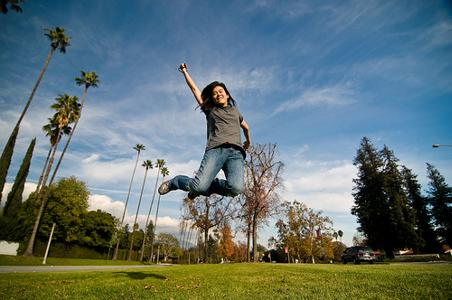person: (160, 61, 253, 203)
